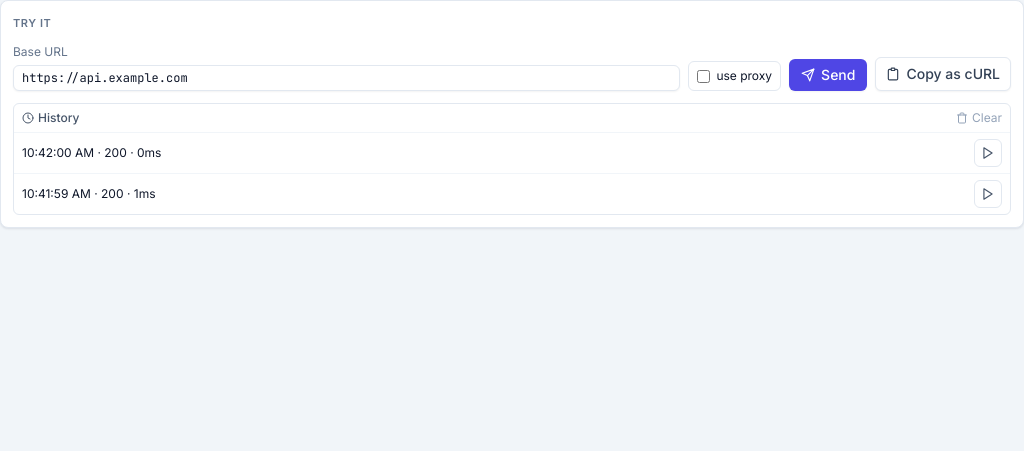
missing env var: renders amber warning row
The image size is (1024, 451).
Click the button "Send": (828, 75) x1=789 y1=59 x2=867 y2=91
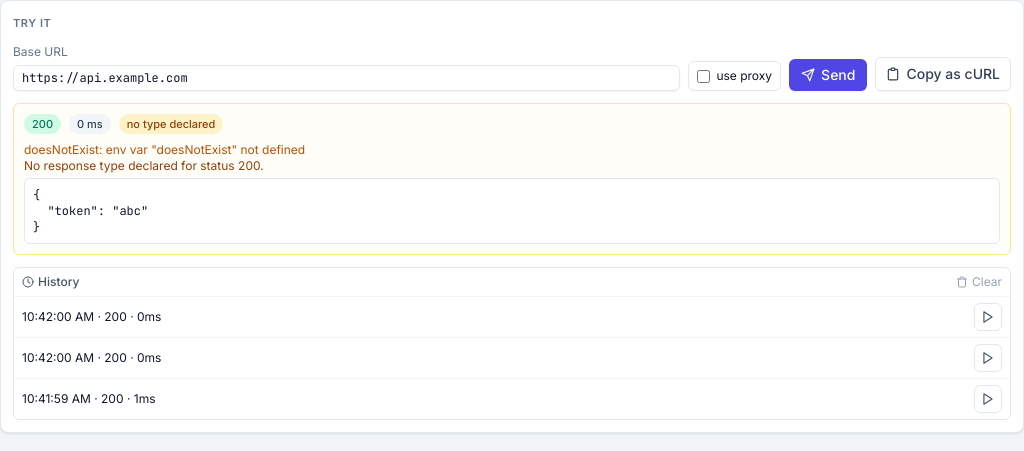
Expected: the text "doesNotExist: env var \"doesNotExist\" not defined" is shown, x1=24 y1=142 x2=305 y2=157
